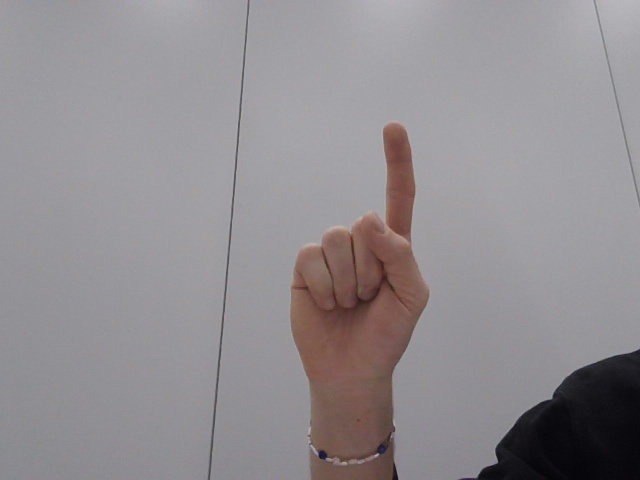up: (268, 110, 442, 427)
